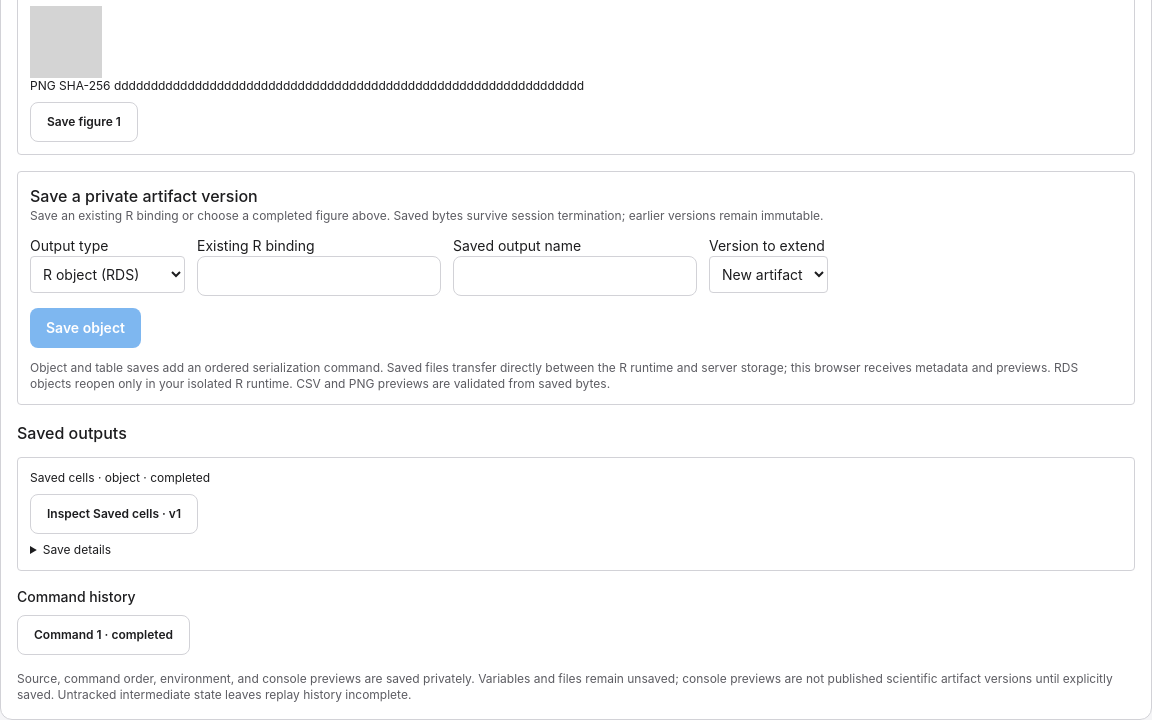
Test: never renders tampered saved bytes and clears saved private evidence after membership revocation
(page scrolled)
Click the button "Inspect Saved cells · v1" at [114, 514], box [30, 494, 198, 534]
(page scrolled)
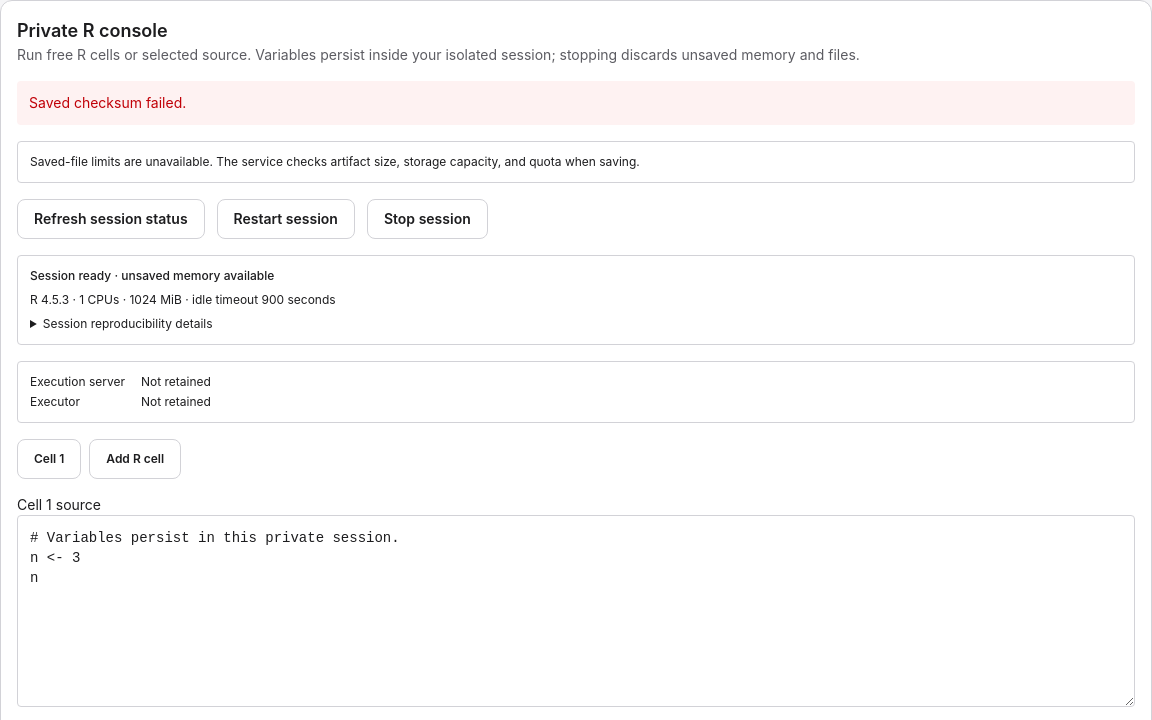
Now the message "Saved checksum failed." is shown, box [17, 81, 1135, 125]
Click the button "Refresh session status" at [111, 219], box [17, 199, 205, 239]
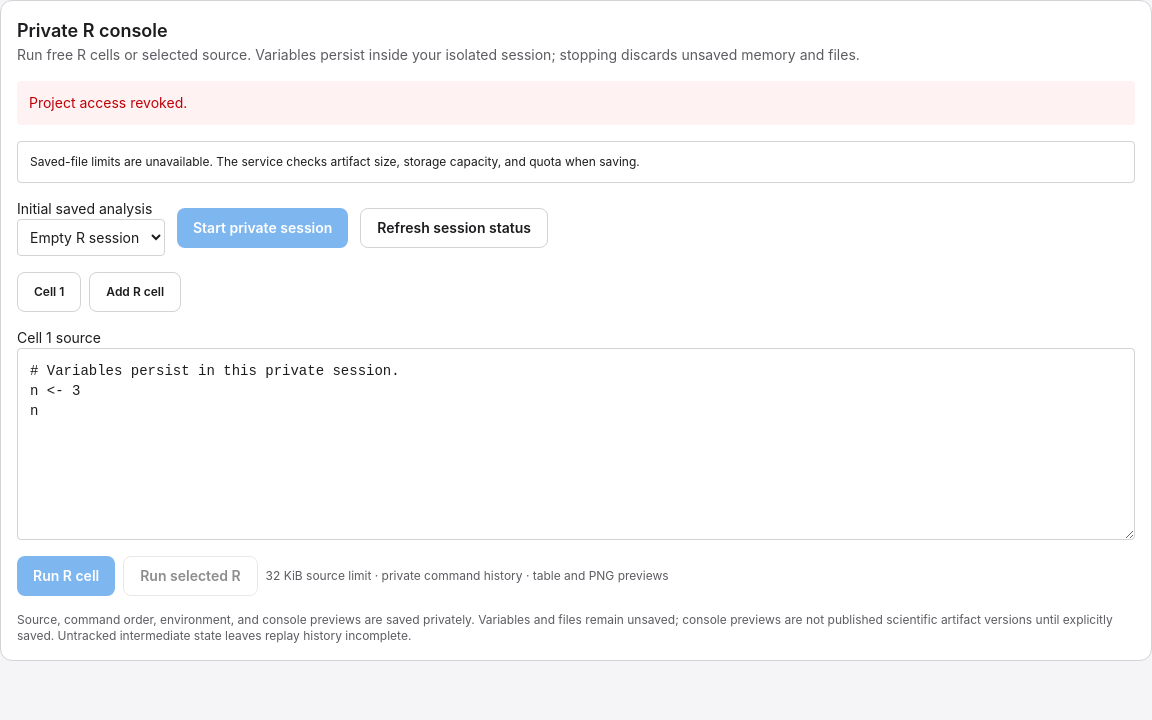
Now the text "Project access revoked." is shown, box [17, 81, 1135, 125]
